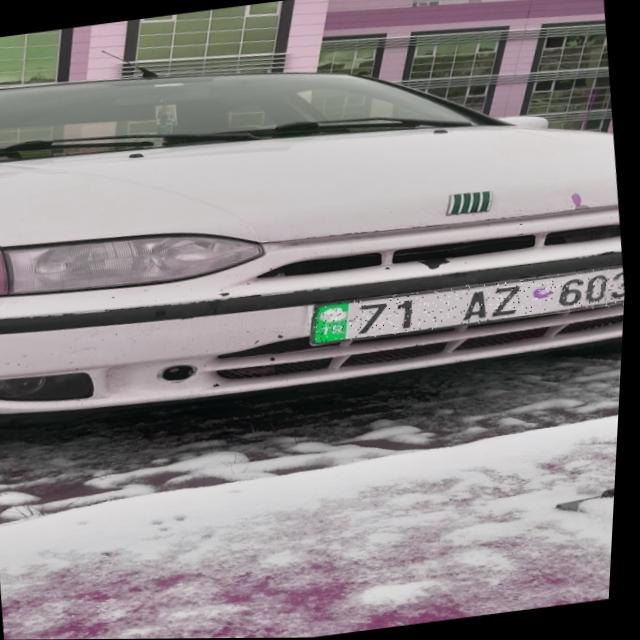license_plate: (310, 265, 629, 345)
